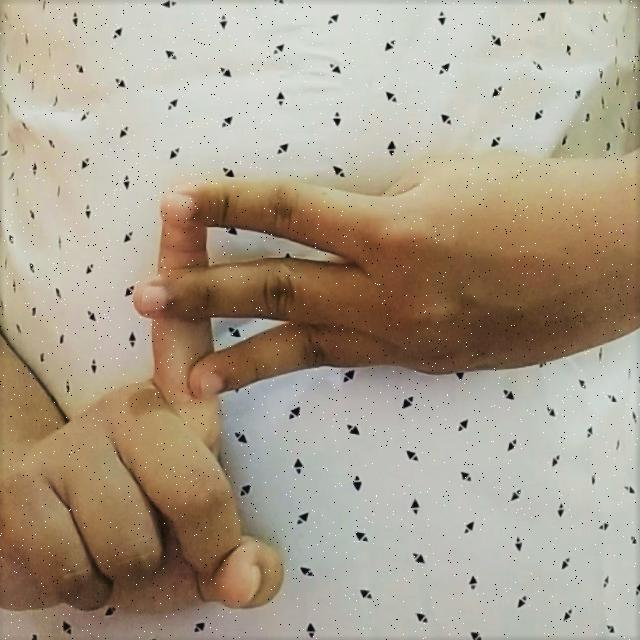B: (4, 142, 615, 622)
